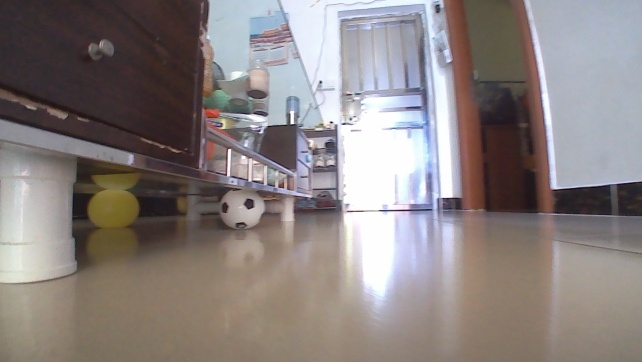door_anno: (333, 0, 442, 216)
tea_table: (0, 0, 328, 290)
wire: (297, 0, 376, 129)
